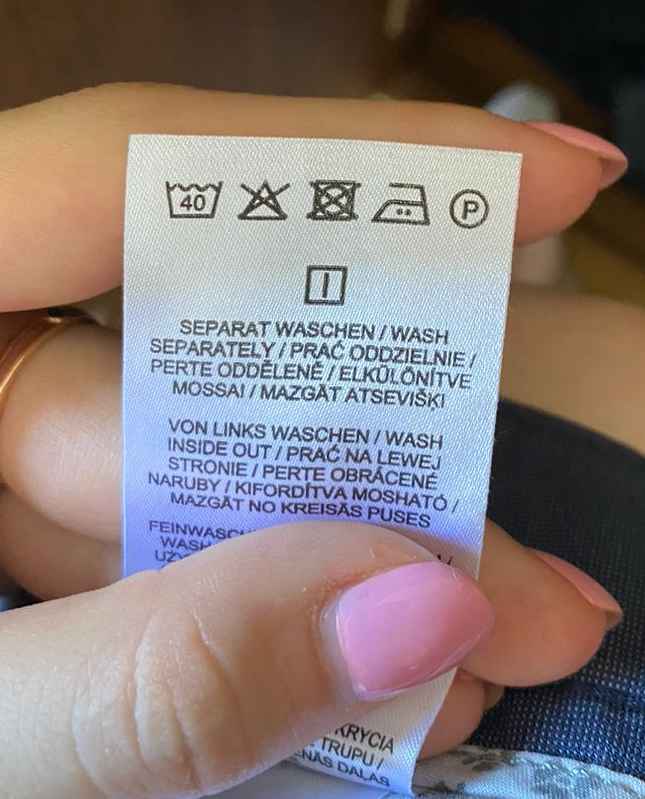do_not_bleach: (233, 173, 294, 225)
do_not_tumble_drying: (300, 174, 366, 227)
dry_clean_tetrachloroethylene_pce_only: (446, 184, 491, 230)
ironing_at_med_temp: (369, 175, 434, 227)
line_dry: (298, 262, 350, 309)
wash_at_or_below_40: (163, 175, 226, 220)
